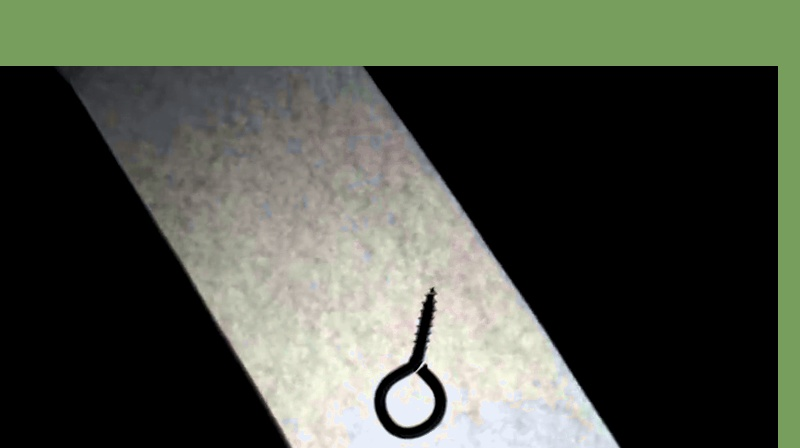O001: (368, 283, 451, 441)
